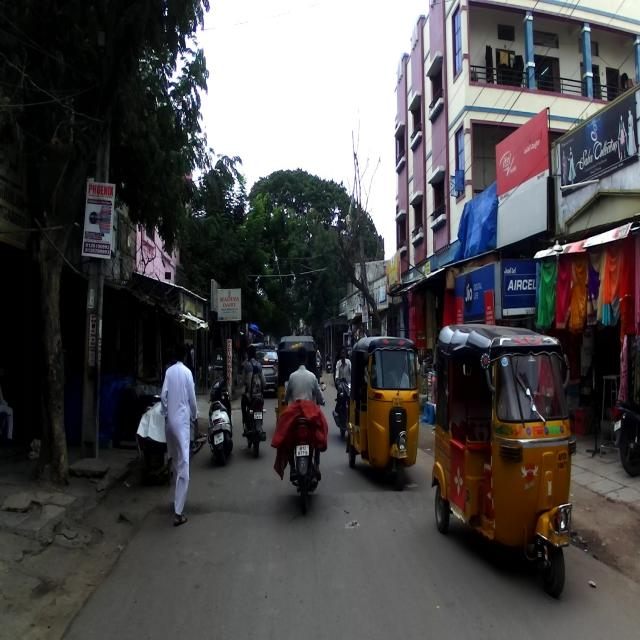autorickshaw: (431, 323, 579, 597), (345, 334, 422, 490)
motorcycle: (271, 379, 326, 516), (238, 374, 266, 459)
scooter: (206, 372, 233, 466)
